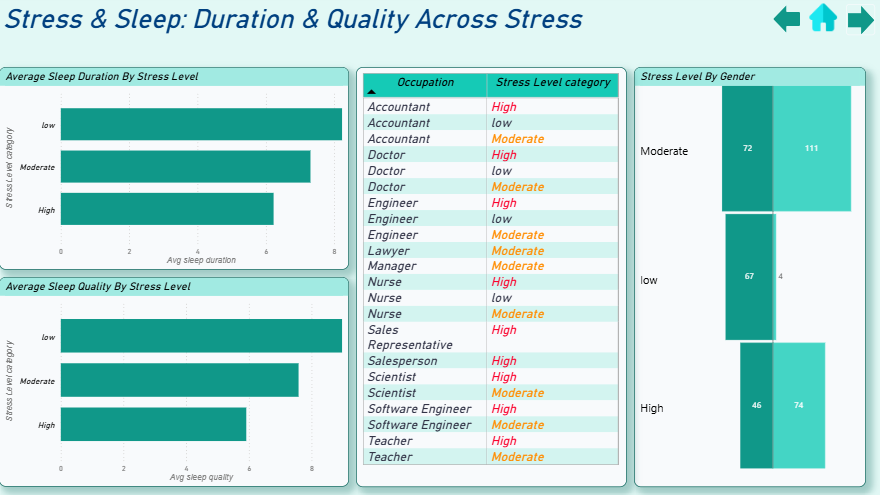

This screenshot's page, from the dashboard's own definition file:
{"tool":"powerbi","page":{"name":"STRESS LEVEL","canvas":[1280,720],"ordinal":3},"visuals":[{"type":"barChart","title":"Average Sleep Duration By Stress Level","fields":{"Category":["Sleep_health_and_lifestyle_data.Stress Level  category"],"Y":["Measure Table.Avg sleep duration"]},"box":[8.6,103.7,504,292.3],"z":0},{"type":"barChart","title":"Average Sleep Quality By Stress Level","fields":{"Category":["SLEEP HEALTH.Stress Level  category"],"Y":["Measure Table.Avg sleep quality"]},"box":[8.6,406.1,504,302.4],"z":1000},{"type":"TornadoChart1452517688218","title":"Stress Level By Gender","fields":{"Category":["Sleep_health_and_lifestyle_data.Stress Level  category"],"Values":["Measure Table.Female","Measure Table.Male"]},"box":[923,103.7,334.1,604.8],"z":2000},{"type":"tableEx","fields":{"Values":["Sleep_health_and_lifestyle_data.Occupation","Sleep_health_and_lifestyle_data.Stress Level  category"]},"box":[522.7,103.7,390.2,604.8],"z":4000},{"type":"shape","box":[1123.2,14.4,38.9,40.3],"z":5000},{"type":"image","box":[1163.5,7.2,64.8,50.4],"z":6000},{"type":"shape","box":[1228.3,13,41.8,44.6],"z":7000},{"type":"textbox","box":[0,7.2,1039.7,66.2],"z":8000}]}

Visuals, with their boxes in screenshot pixels (x1, y1, x2, y2), scaled from the page's 1280x720 canvas onto the 880x495 screenshot:
"Average Sleep Duration By Stress Level" barChart: l=6, t=71, r=352, b=272
"Average Sleep Quality By Stress Level" barChart: l=6, t=279, r=352, b=487
"Stress Level By Gender" TornadoChart1452517688218: l=635, t=71, r=864, b=487
tableEx - Sleep_health_and_lifestyle_data.Occupation x Sleep_health_and_lifestyle_data.Stress Level  category: l=359, t=71, r=628, b=487
shape: l=772, t=10, r=799, b=38
image: l=800, t=5, r=844, b=40
shape: l=844, t=9, r=873, b=40
textbox: l=0, t=5, r=715, b=50
